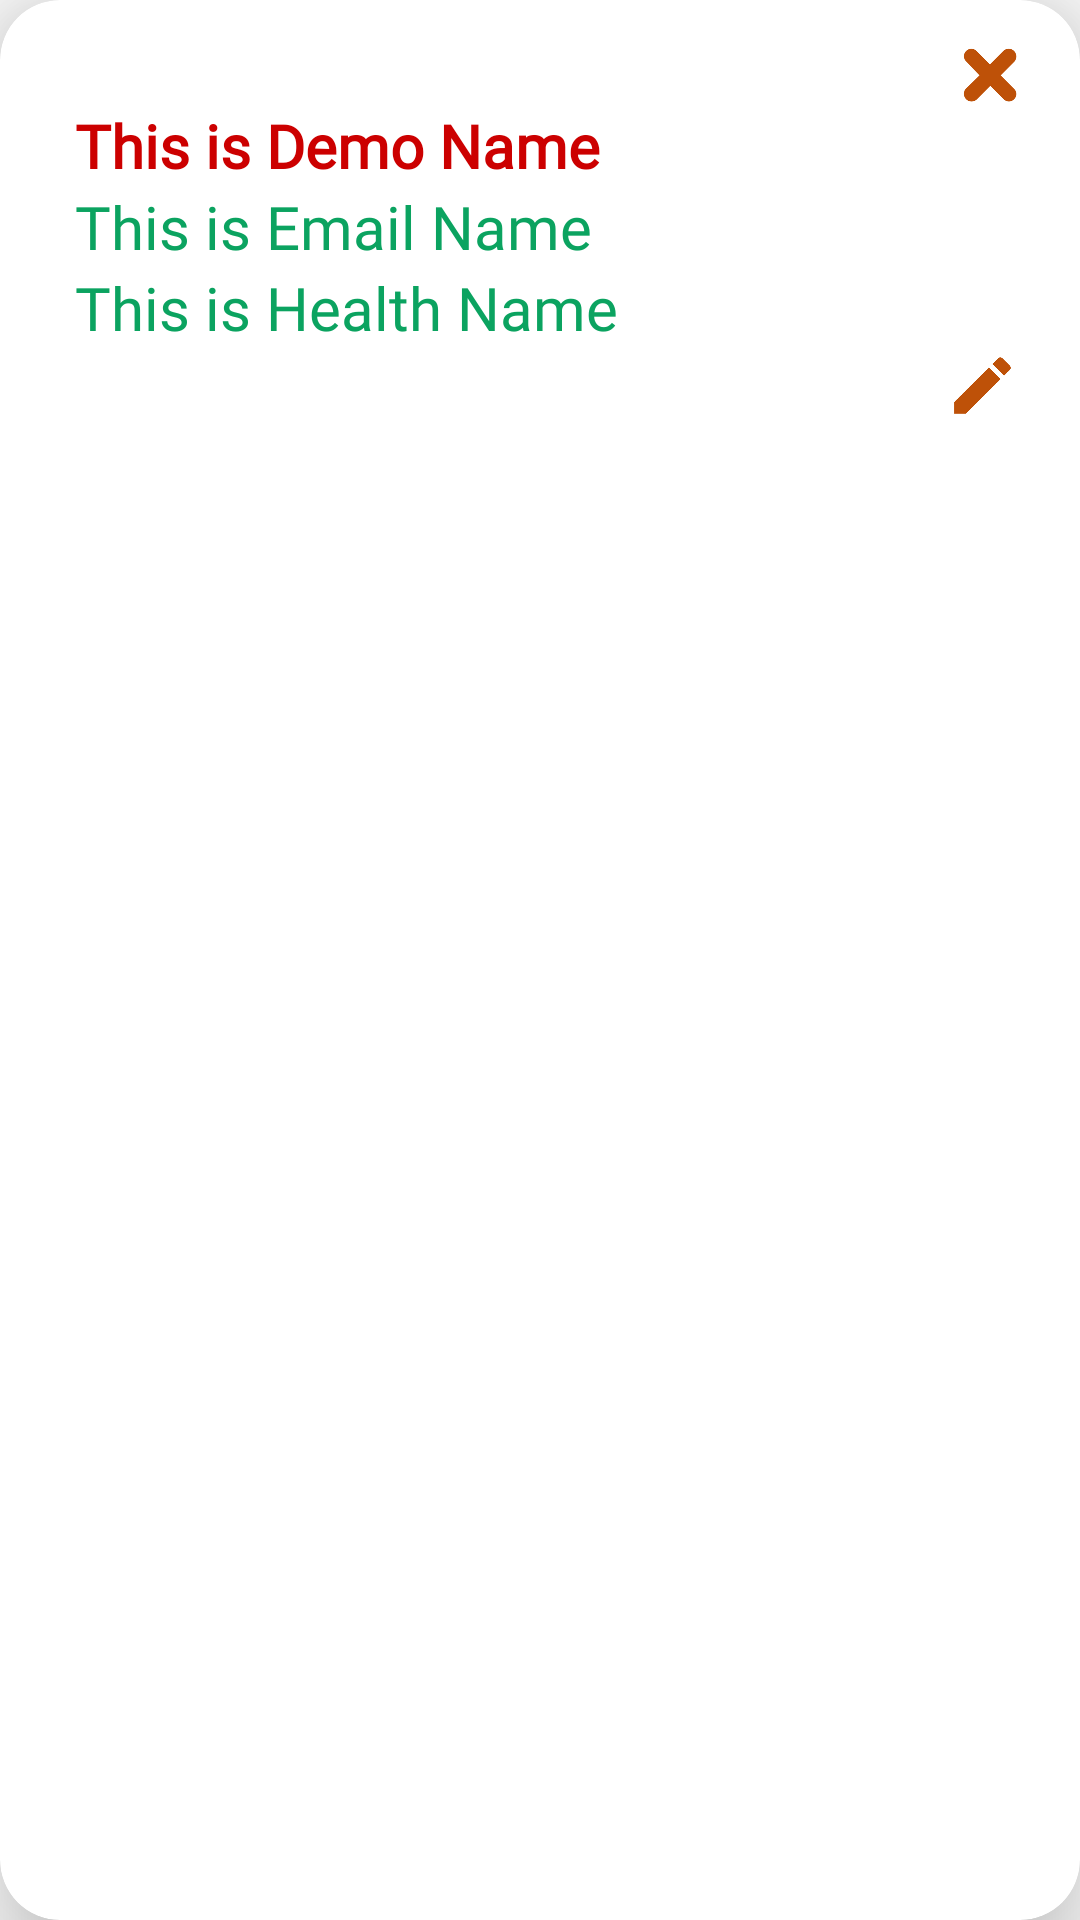

Icon bounding boxes for this 1080 x 1920 phone screenshot, format (x1, y1, x2, y2):
edit: (954, 357, 1011, 414)
